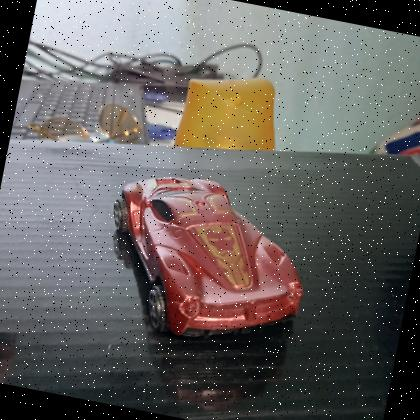Car: (86, 156, 331, 366)
